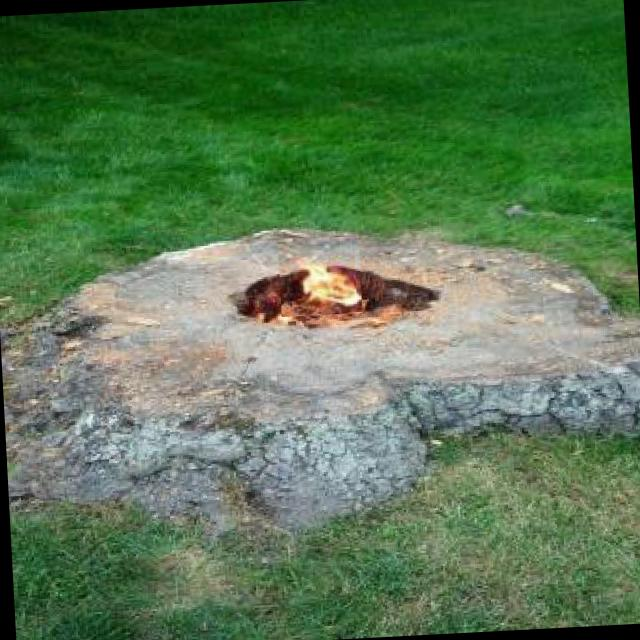fire: (278, 235, 362, 317)
